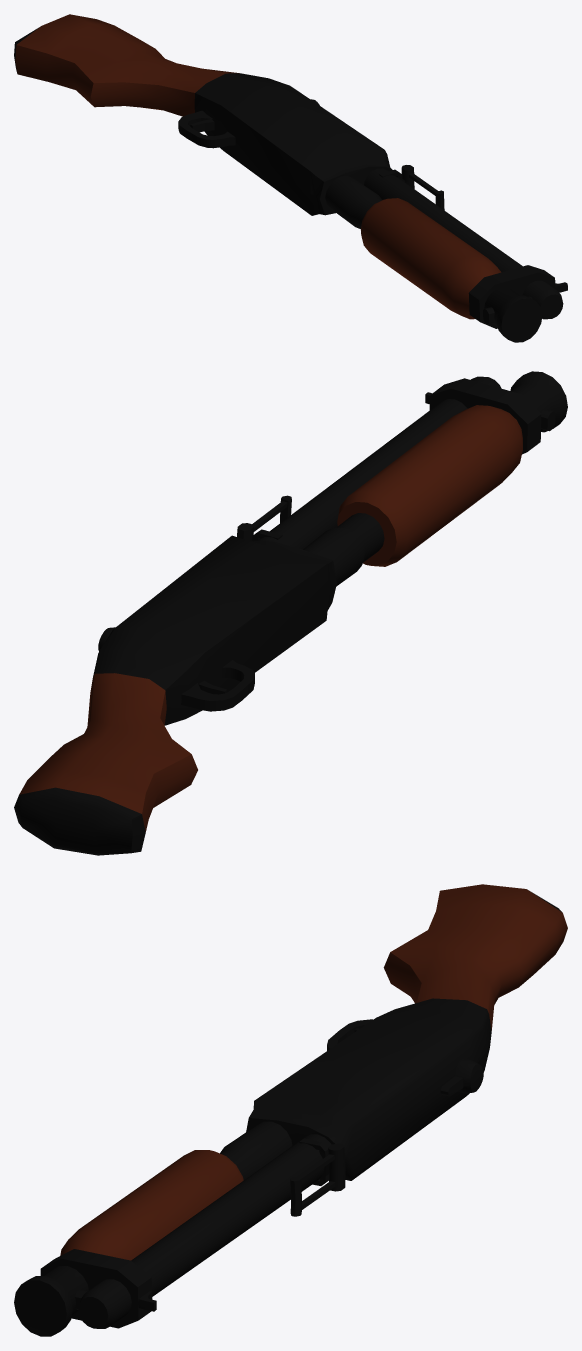
File: Shotgun.FBX
The picture shows the model from 3 angles, top to bottom: view 1: azimuth 30°, elevation 25°; view 2: azimuth 150°, elevation 25°; view 3: azimuth 330°, elevation 25°; orthographic projection. The views are drawn at different scales.
Parts seen in each view (by area): view 1: Gunny; view 2: Gunny; view 3: Gunny.
Boxes of the visible parts, box(x1,y1,x2,y2) form: Gunny: box(14, 14, 567, 342); Gunny: box(14, 371, 567, 855); Gunny: box(14, 884, 567, 1336).
Size of the model in its own units: 20.7 by 89.93 by 7.54.
